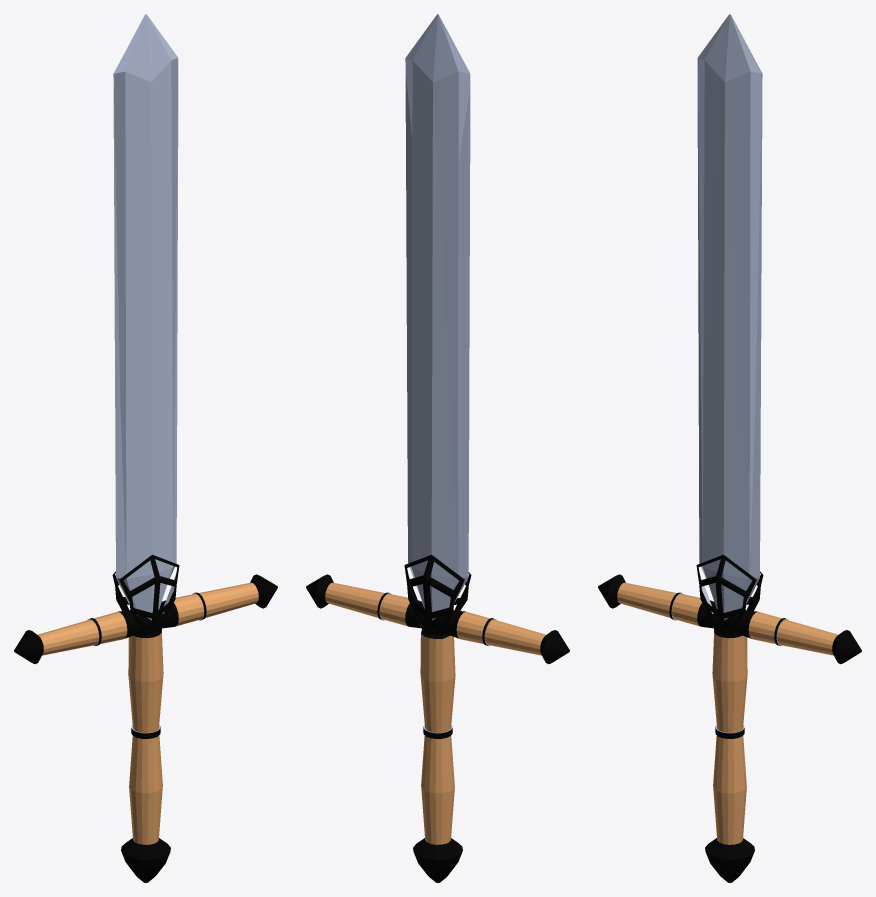
The model's file is Sword.fbx.
3 views of the same model, side by side, from view 1: azimuth 30°, elevation 25°; view 2: azimuth 150°, elevation 25°; view 3: azimuth 330°, elevation 25° (orthographic).
Visible parts, largest first — view 1: Cylinder; view 2: Cylinder; view 3: Cylinder.
Part boxes in pixels (x1=…): Cylinder: x1=14, y1=14, x2=277, y2=882; Cylinder: x1=306, y1=14, x2=569, y2=882; Cylinder: x1=598, y1=14, x2=861, y2=882.
Size of the model in its own units: 1611 by 511 by 84.94.
